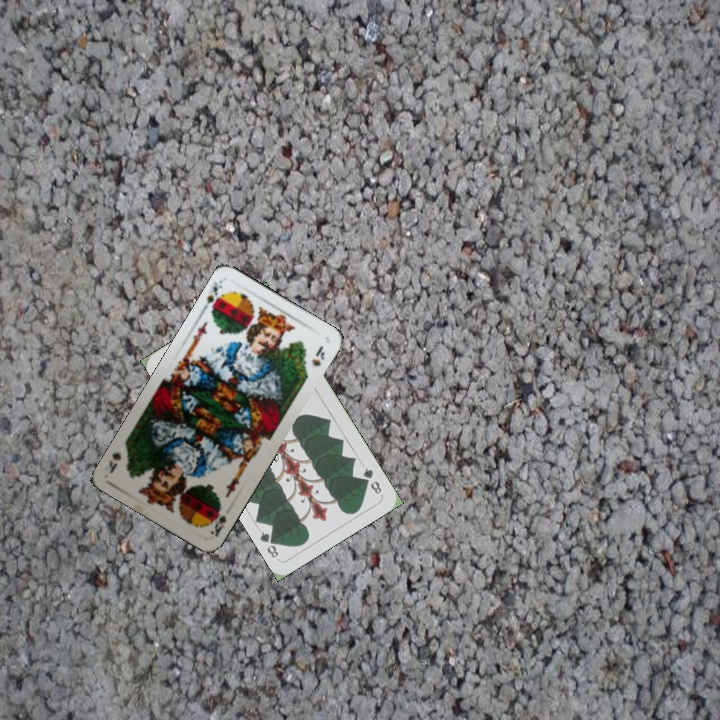G8: (359, 463, 384, 497)
SK: (198, 276, 227, 317), (205, 503, 229, 539)
